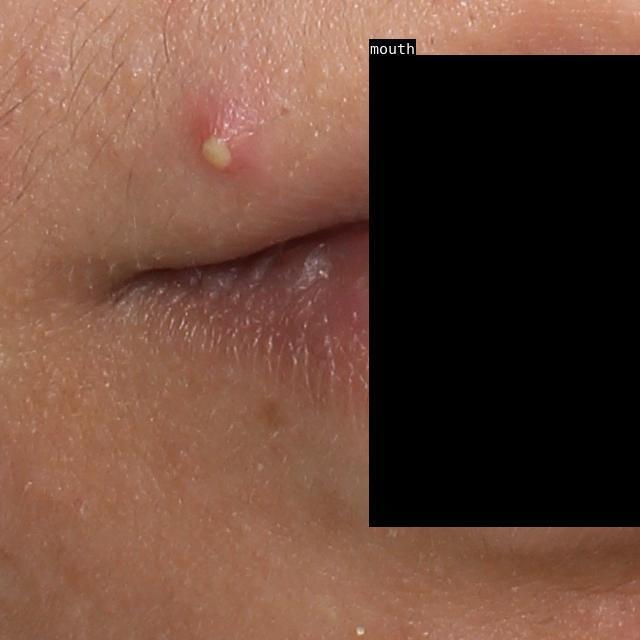comedo: (119, 58, 150, 92)
pustule: (196, 97, 258, 171)
